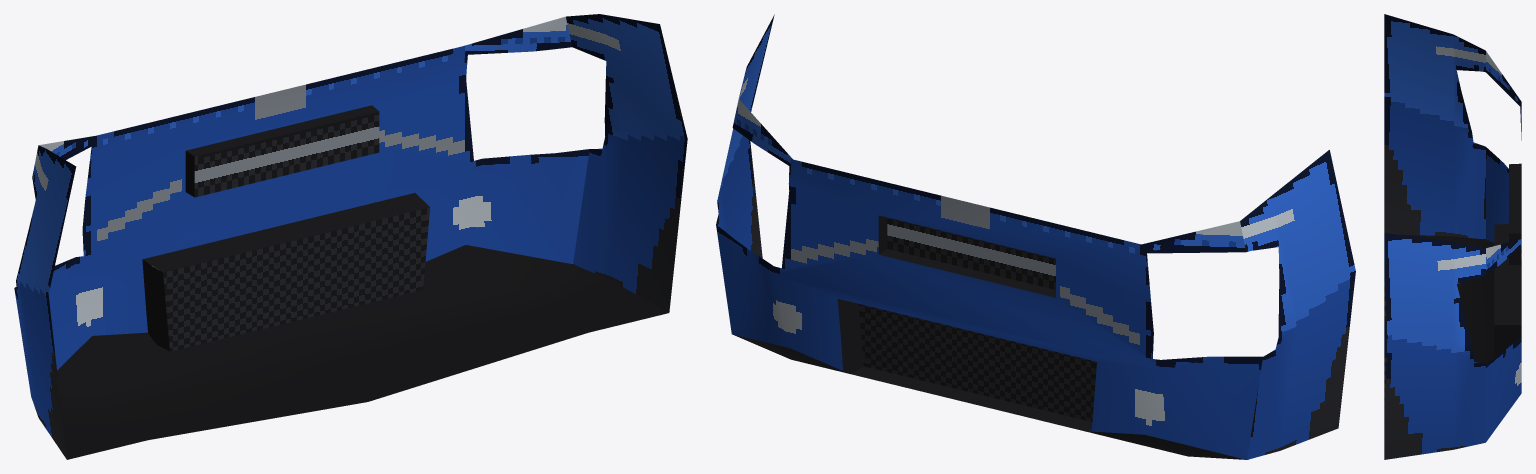
File: bumper_F_stock.glb
3 renders of one model, left to right at view 1: azimuth 30°, elevation 25°; view 2: azimuth 150°, elevation 25°; view 3: azimuth 270°, elevation 25°, orthographic. The views are drawn at different scales.
Visible parts, largest first — view 1: bumper_F_stock; view 2: bumper_F_stock; view 3: bumper_F_stock.
Part boxes in pixels (x1,y1,x2,y2): bumper_F_stock: (14, 14, 687, 459); bumper_F_stock: (716, 14, 1355, 459); bumper_F_stock: (1384, 14, 1521, 459).
Size of the model in its own units: 1.75 by 0.8001 by 0.4225.
Materials: 1 (1 with a texture image).
